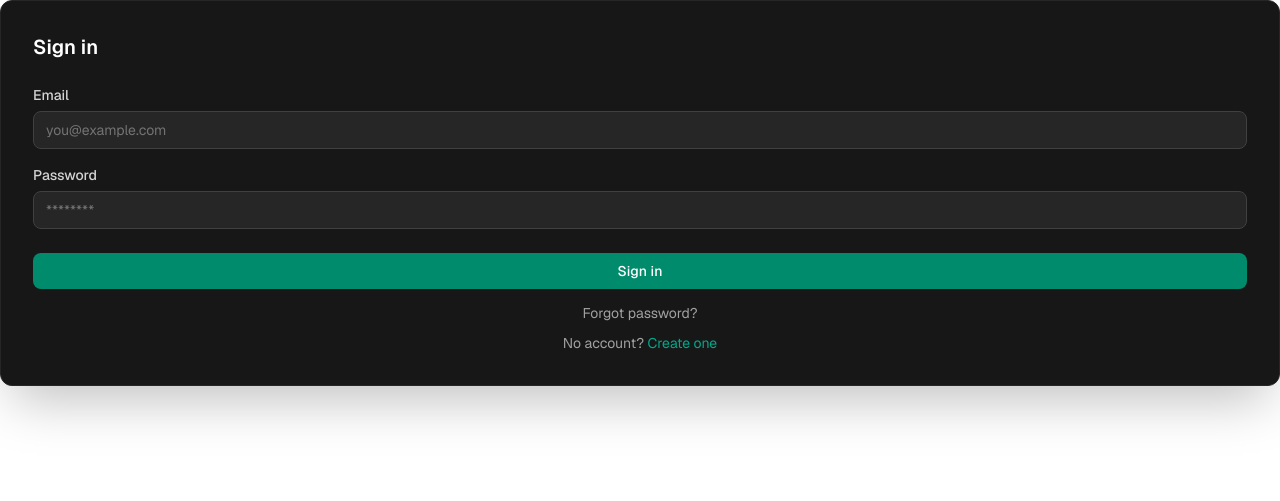
Test: Login page › displays error on login failure
In the field labelled "Email": (640, 130) [33,111,1247,149], type "a@b.com"
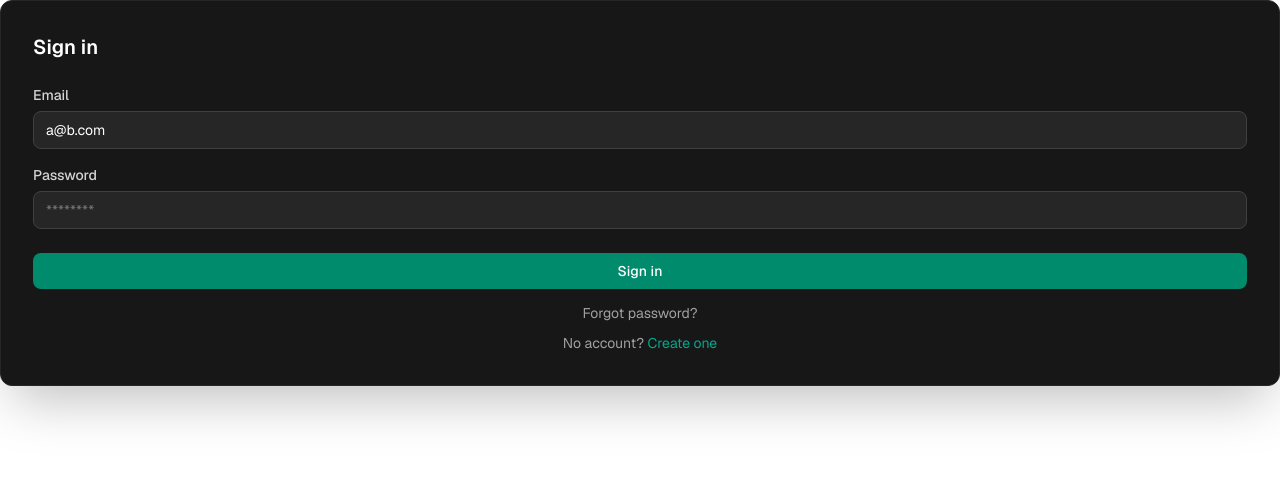
In the password field labelled "Password": (640, 210) [33,191,1247,229], type "wrong"
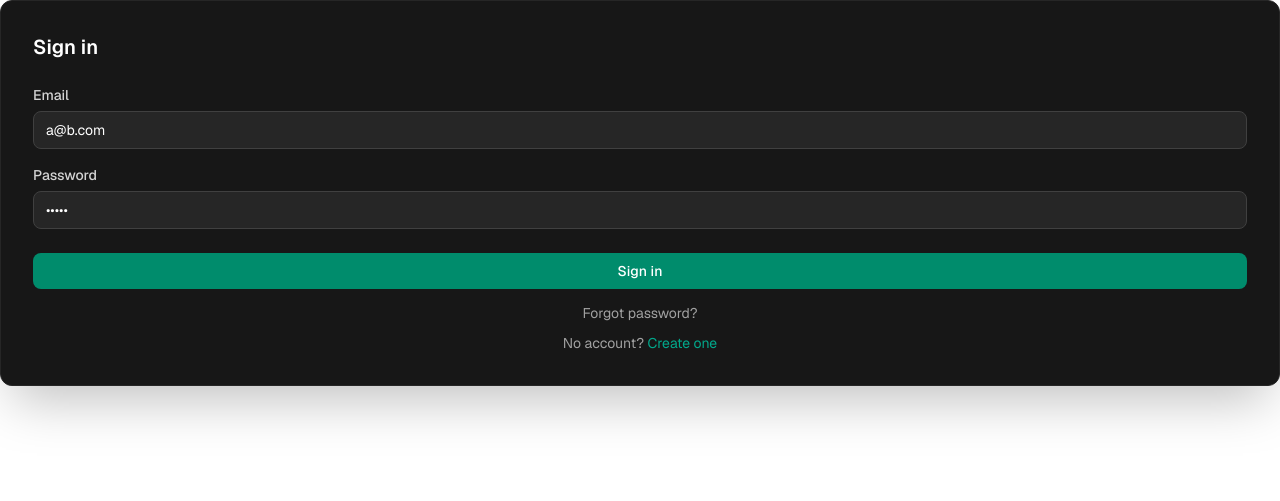
Submit the form "Sign in"
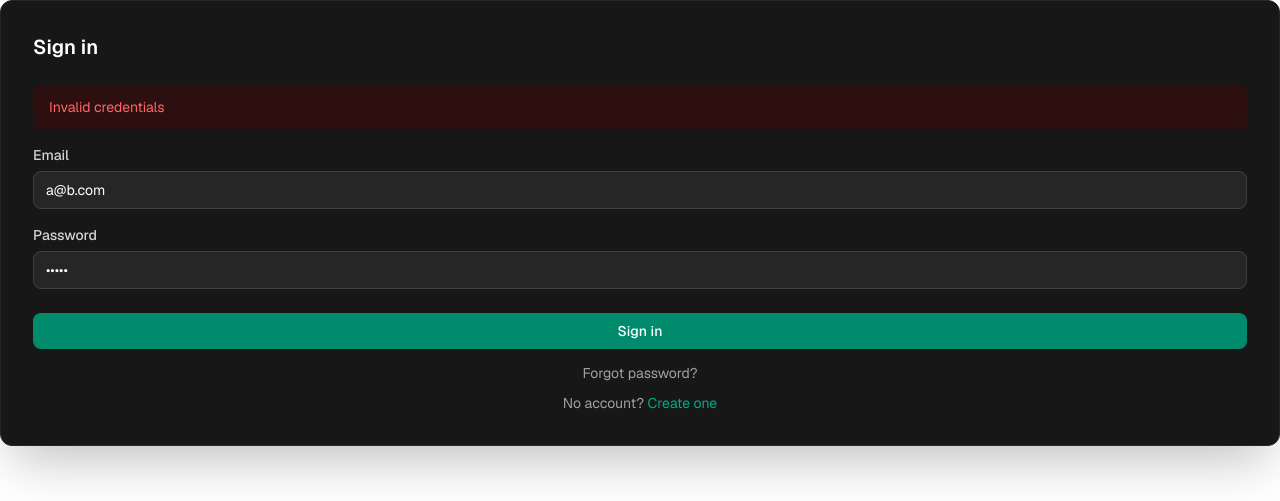
Expected: the text "Invalid credentials" is shown, [33,85,1247,129]
